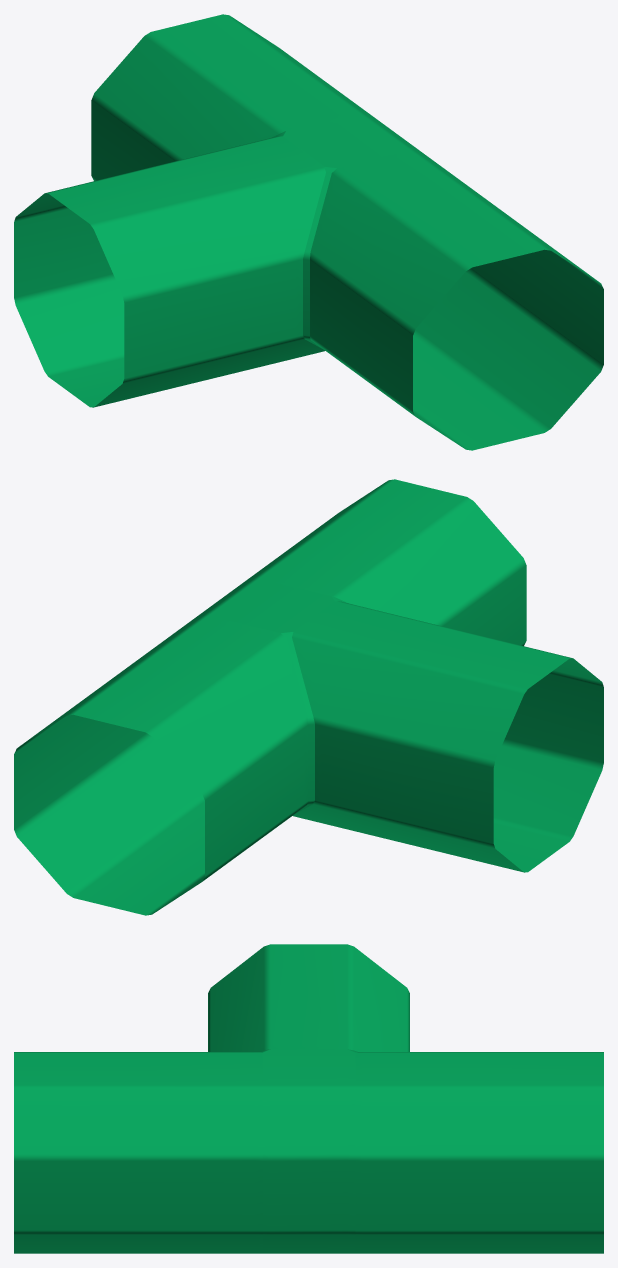
File: T Corridor soft.fbx
3 views of the same model, one above another, from view 1: azimuth 30°, elevation 25°; view 2: azimuth 150°, elevation 25°; view 3: azimuth 270°, elevation 25° (orthographic). The views are drawn at different scales.
Visible parts, largest first — view 1: T_Corridor1; view 2: T_Corridor1; view 3: T_Corridor1.
Part boxes in pixels (bbox=[...]): T_Corridor1: bbox=[14, 14, 603, 450]; T_Corridor1: bbox=[14, 479, 603, 915]; T_Corridor1: bbox=[14, 944, 603, 1253].
Bounding box in the file's own units: 47 × 22 × 70.
